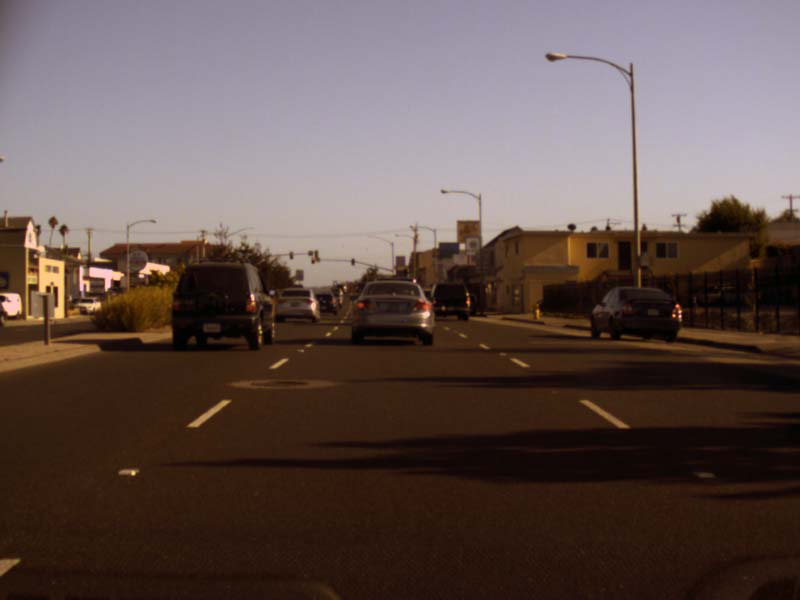Red: (310, 256, 315, 264)
